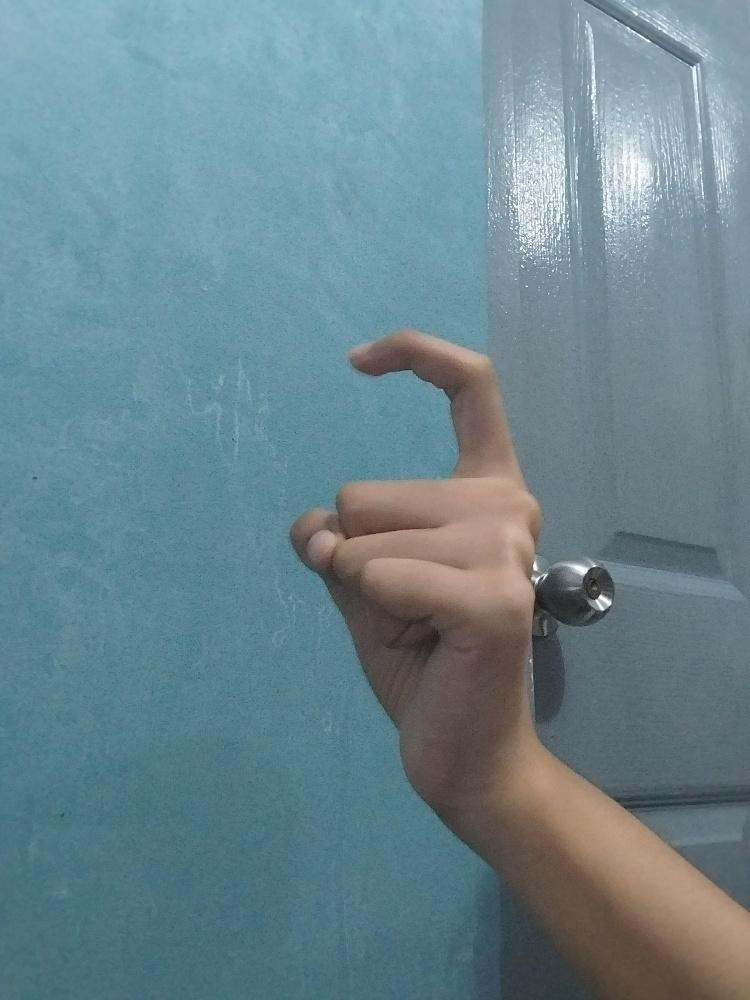x: (287, 329, 538, 827)
